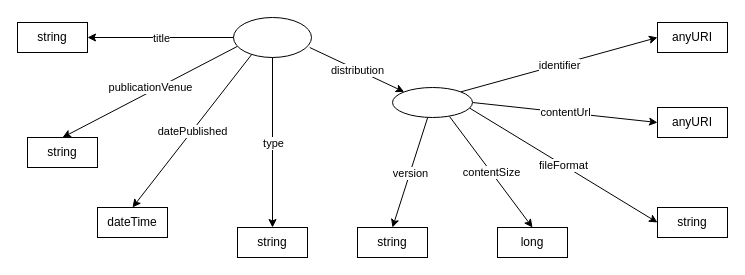
The diagram is 745 pixels wide and 275 high, and some of its shapes have lost their labels. Here are the shapes that lost their labels. From the top down, the centre of each, then its label:
At point (272, 37): "Software".
At point (432, 102): "Download".
